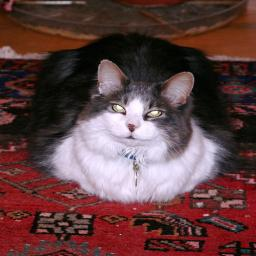catnose: (126, 122, 138, 133)
